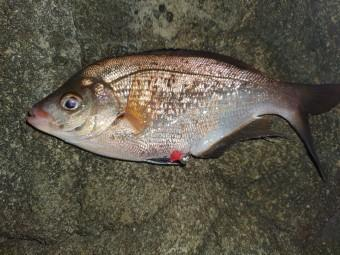fish: (24, 50, 339, 181)
